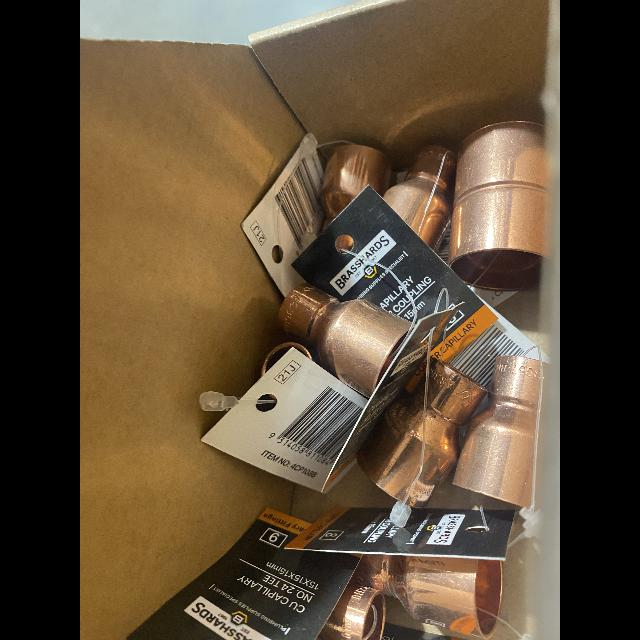Copper: (358, 358, 486, 507), (449, 121, 547, 292), (279, 284, 411, 397), (453, 355, 540, 506), (350, 555, 503, 640), (320, 144, 391, 229), (384, 145, 445, 233), (418, 151, 457, 251), (320, 583, 386, 640), (262, 342, 312, 375)
